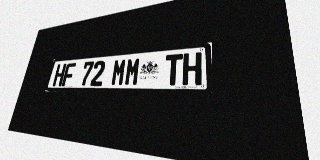2: (90, 60, 106, 86)
7: (79, 61, 94, 86)
F: (61, 63, 76, 86)
H: (182, 52, 202, 85), (52, 64, 67, 86)
M: (124, 57, 141, 86), (110, 58, 127, 86)
T: (164, 54, 183, 85)
